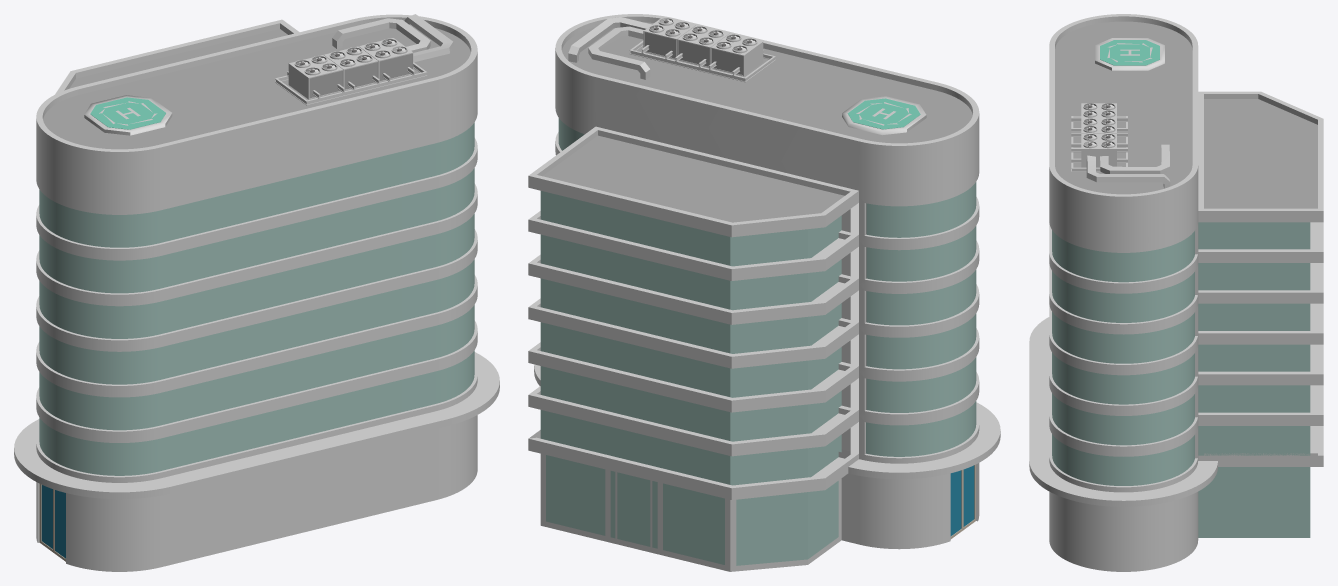
Rendered from Com.obj.
3 renders of one model, left to right at view 1: azimuth 30°, elevation 25°; view 2: azimuth 150°, elevation 25°; view 3: azimuth 270°, elevation 25°, orthographic. The views are drawn at different scales.
Visible parts, largest first — view 1: Tall_Building, Turbine_AC, Helipad; view 2: Tall_Building, Turbine_AC, Helipad; view 3: Tall_Building, Turbine_AC, Helipad.
Part boxes in pixels (box(x1,y1,x2,y2)): Tall_Building: box(14, 14, 499, 571); Turbine_AC: box(275, 14, 453, 105); Helipad: box(84, 95, 172, 135); Tall_Building: box(528, 14, 1000, 571); Turbine_AC: box(568, 17, 775, 82); Helipad: box(842, 96, 926, 135); Tall_Building: box(1029, 14, 1323, 571); Turbine_AC: box(1071, 103, 1170, 188); Helipad: box(1095, 38, 1164, 70).
Size of the model in its own units: 99.24 by 90.63 by 61.8.
